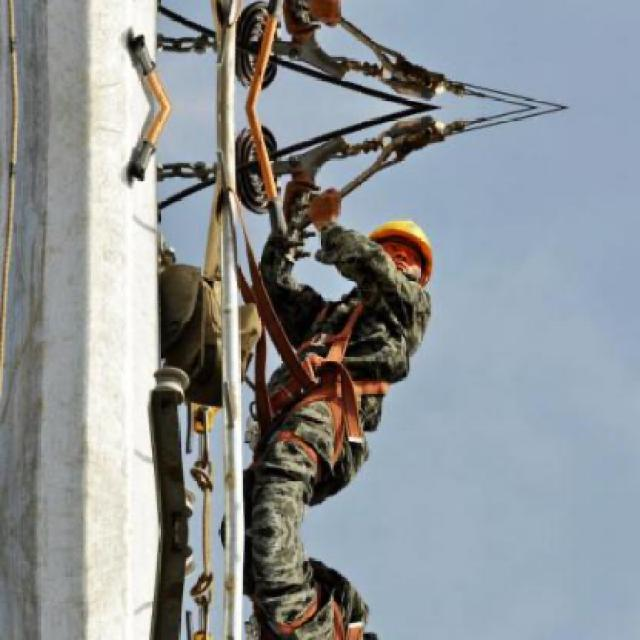helmet: (363, 208, 442, 290)
